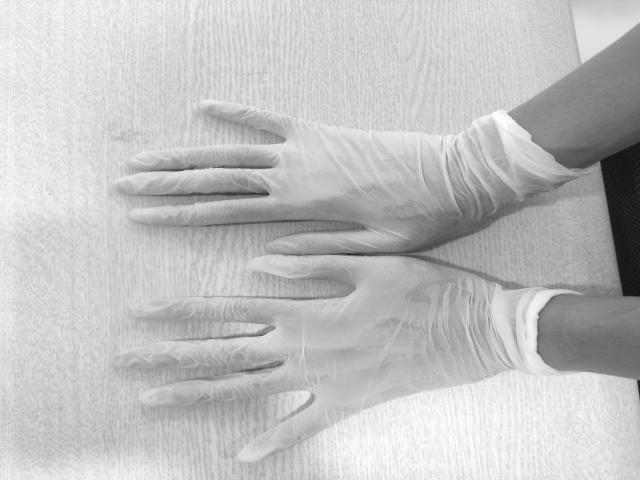gloved: (118, 253, 490, 460), (114, 97, 472, 254)
